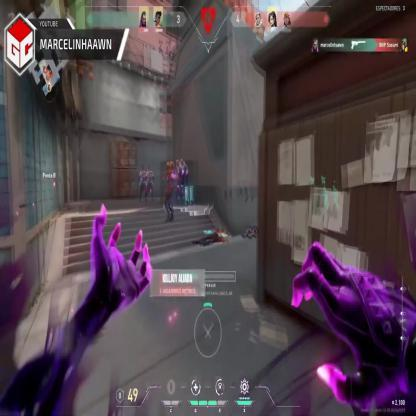enemy: (162, 160, 176, 224), (178, 158, 188, 206), (138, 166, 146, 203)
enemy_head: (166, 162, 170, 174), (180, 158, 184, 166), (141, 165, 144, 172)
